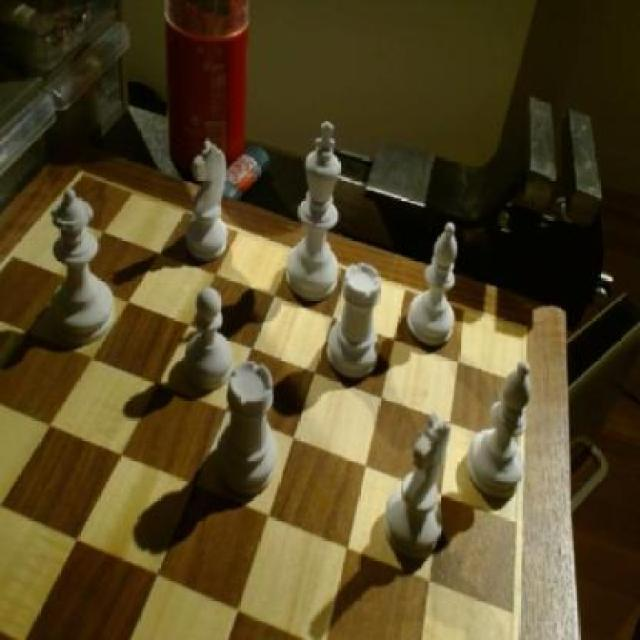black-rook: (465, 356, 536, 512), (406, 215, 466, 354)
white-bishop: (286, 115, 343, 300)
white-king: (385, 406, 456, 562), (186, 134, 236, 266)
white-knight: (182, 282, 239, 394)
white-pawn: (49, 183, 118, 349)
white-queen: (222, 358, 282, 489), (326, 254, 384, 385)
